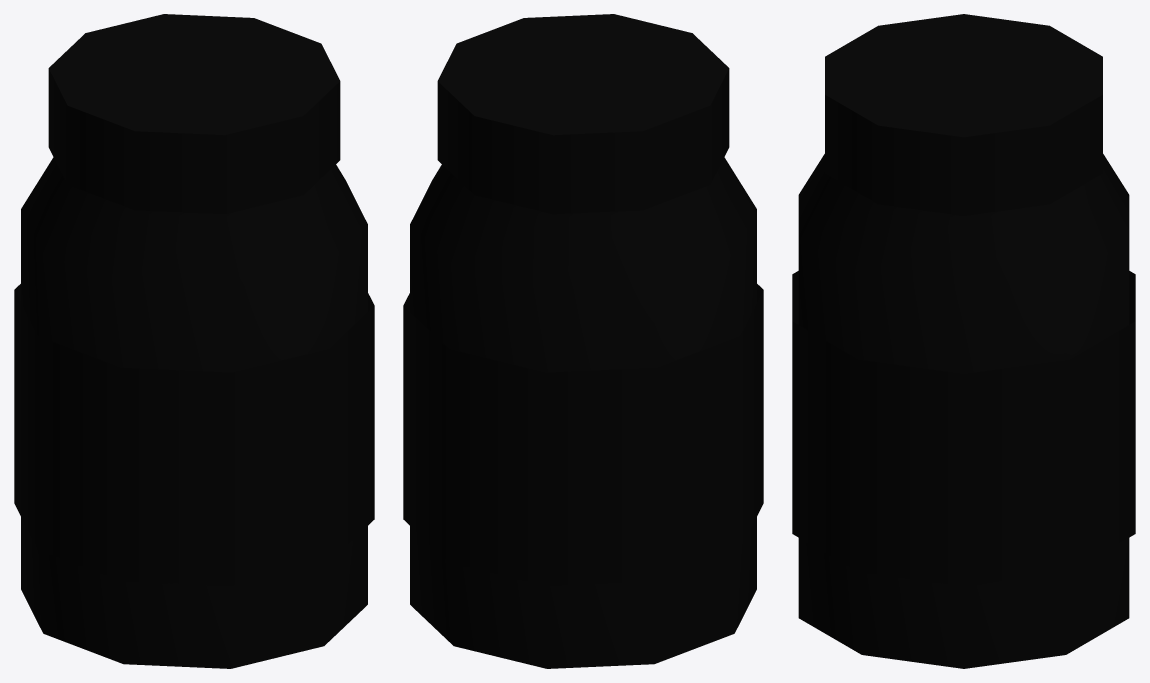
Rendered from SM_jar_honey.fbx.
The picture shows the model from 3 angles, left to right: view 1: azimuth 30°, elevation 25°; view 2: azimuth 150°, elevation 25°; view 3: azimuth 270°, elevation 25°; orthographic projection.
Parts seen in each view (by area): view 1: jar_honey, jar_honey_lid; view 2: jar_honey, jar_honey_lid; view 3: jar_honey, jar_honey_lid.
Boxes of the visible parts, box(x1,y1,x2,y2) form: jar_honey: box(14, 157, 374, 668); jar_honey_lid: box(48, 14, 340, 214); jar_honey: box(403, 157, 763, 668); jar_honey_lid: box(437, 14, 729, 214); jar_honey: box(792, 154, 1135, 668); jar_honey_lid: box(825, 14, 1102, 215).
Bounding box in the file's own units: 0.083 × 0.132 × 0.0789.
